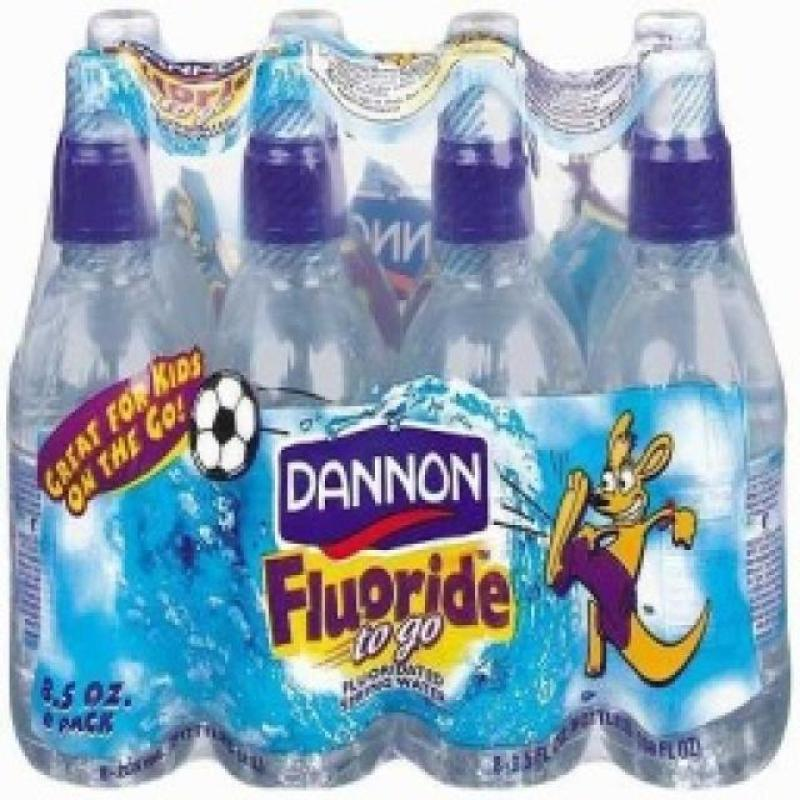botella: (394, 59, 594, 790), (4, 53, 202, 791), (594, 41, 788, 790), (200, 61, 390, 790), (84, 12, 218, 348), (262, 6, 350, 50), (446, 12, 519, 60), (624, 8, 704, 40)
